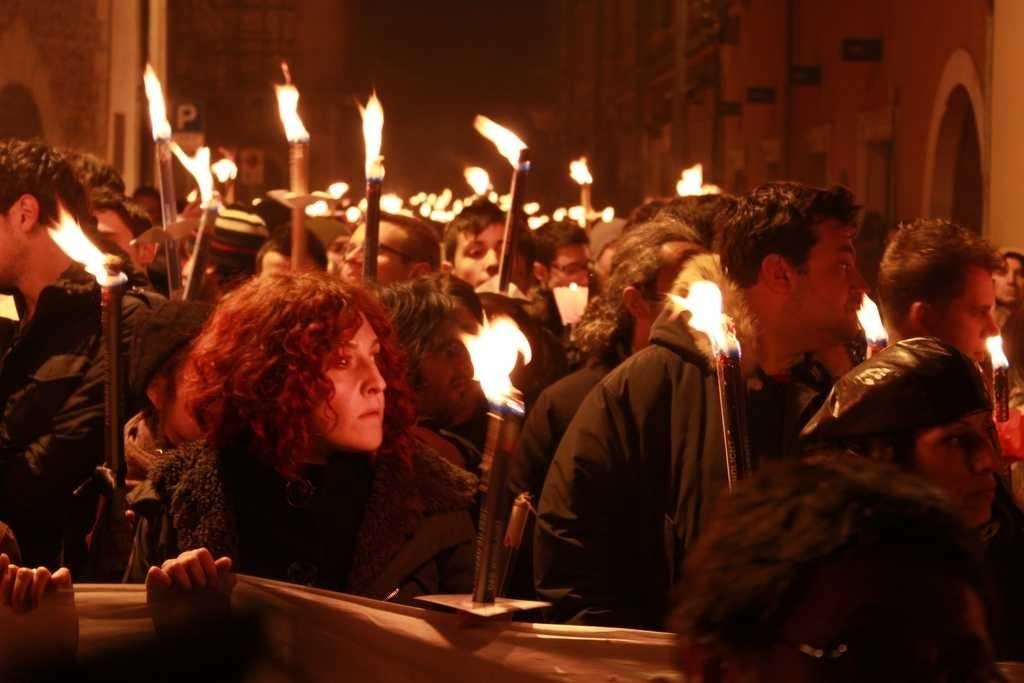fire: (475, 327, 527, 407), (692, 285, 720, 338), (147, 78, 168, 145), (363, 110, 385, 172), (58, 228, 90, 262), (280, 87, 300, 137), (498, 122, 520, 163), (858, 303, 883, 335), (683, 168, 703, 198)
